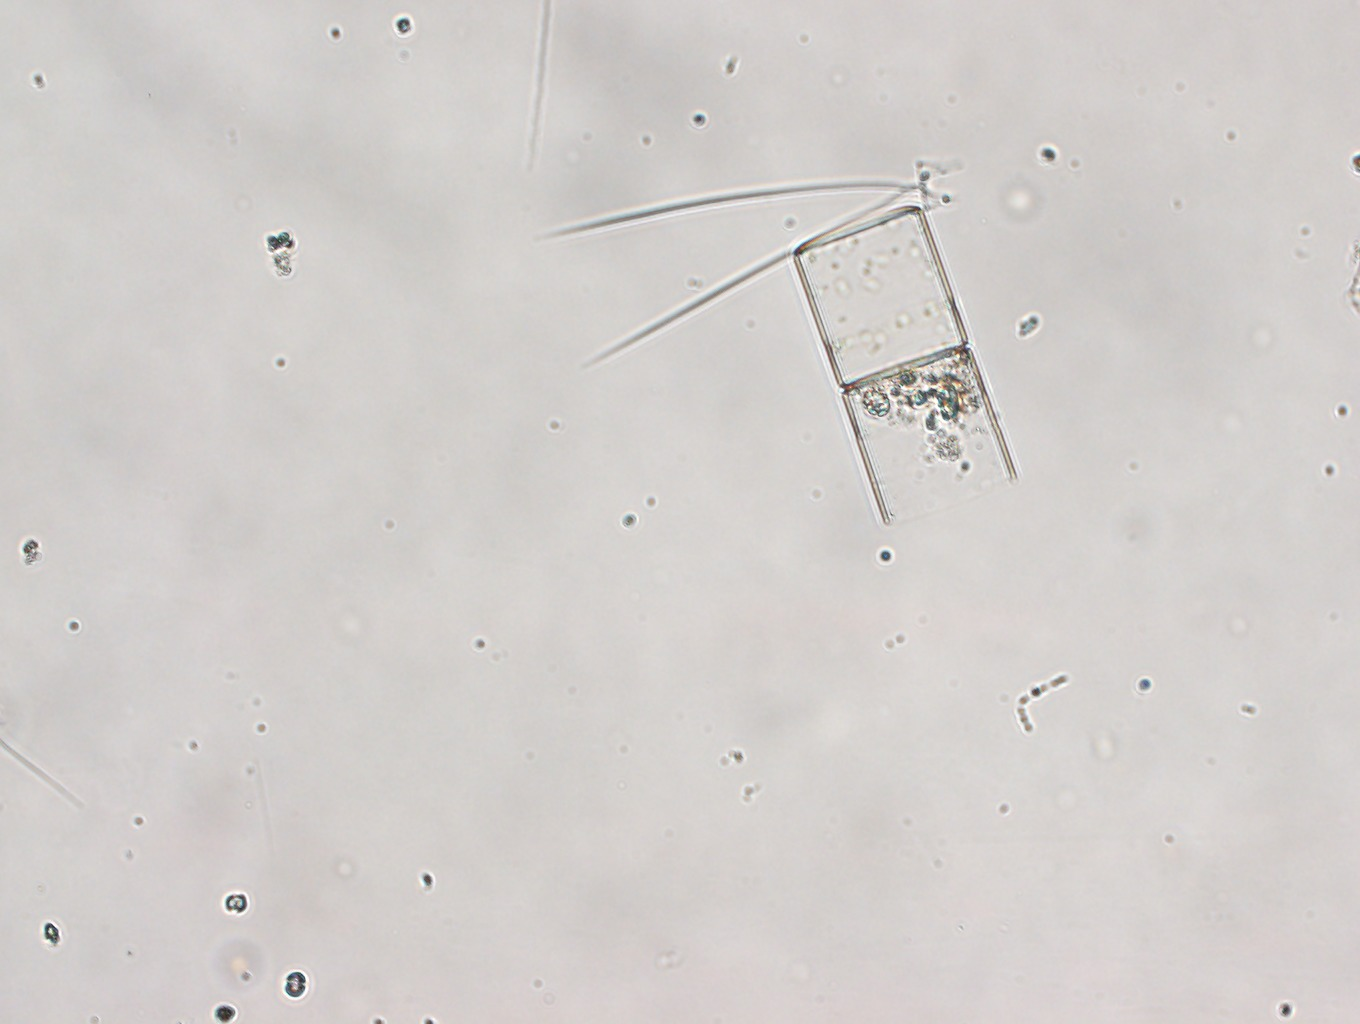guinardia flaccida: (781, 199, 1028, 526)
